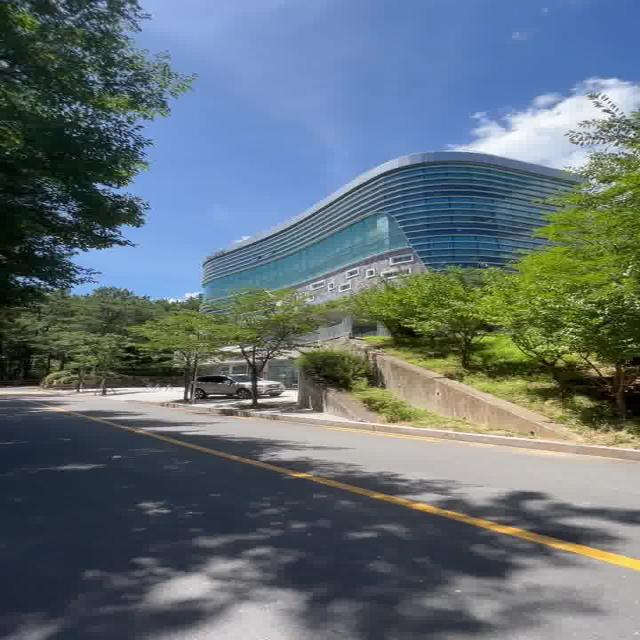building: (178, 149, 522, 280)
